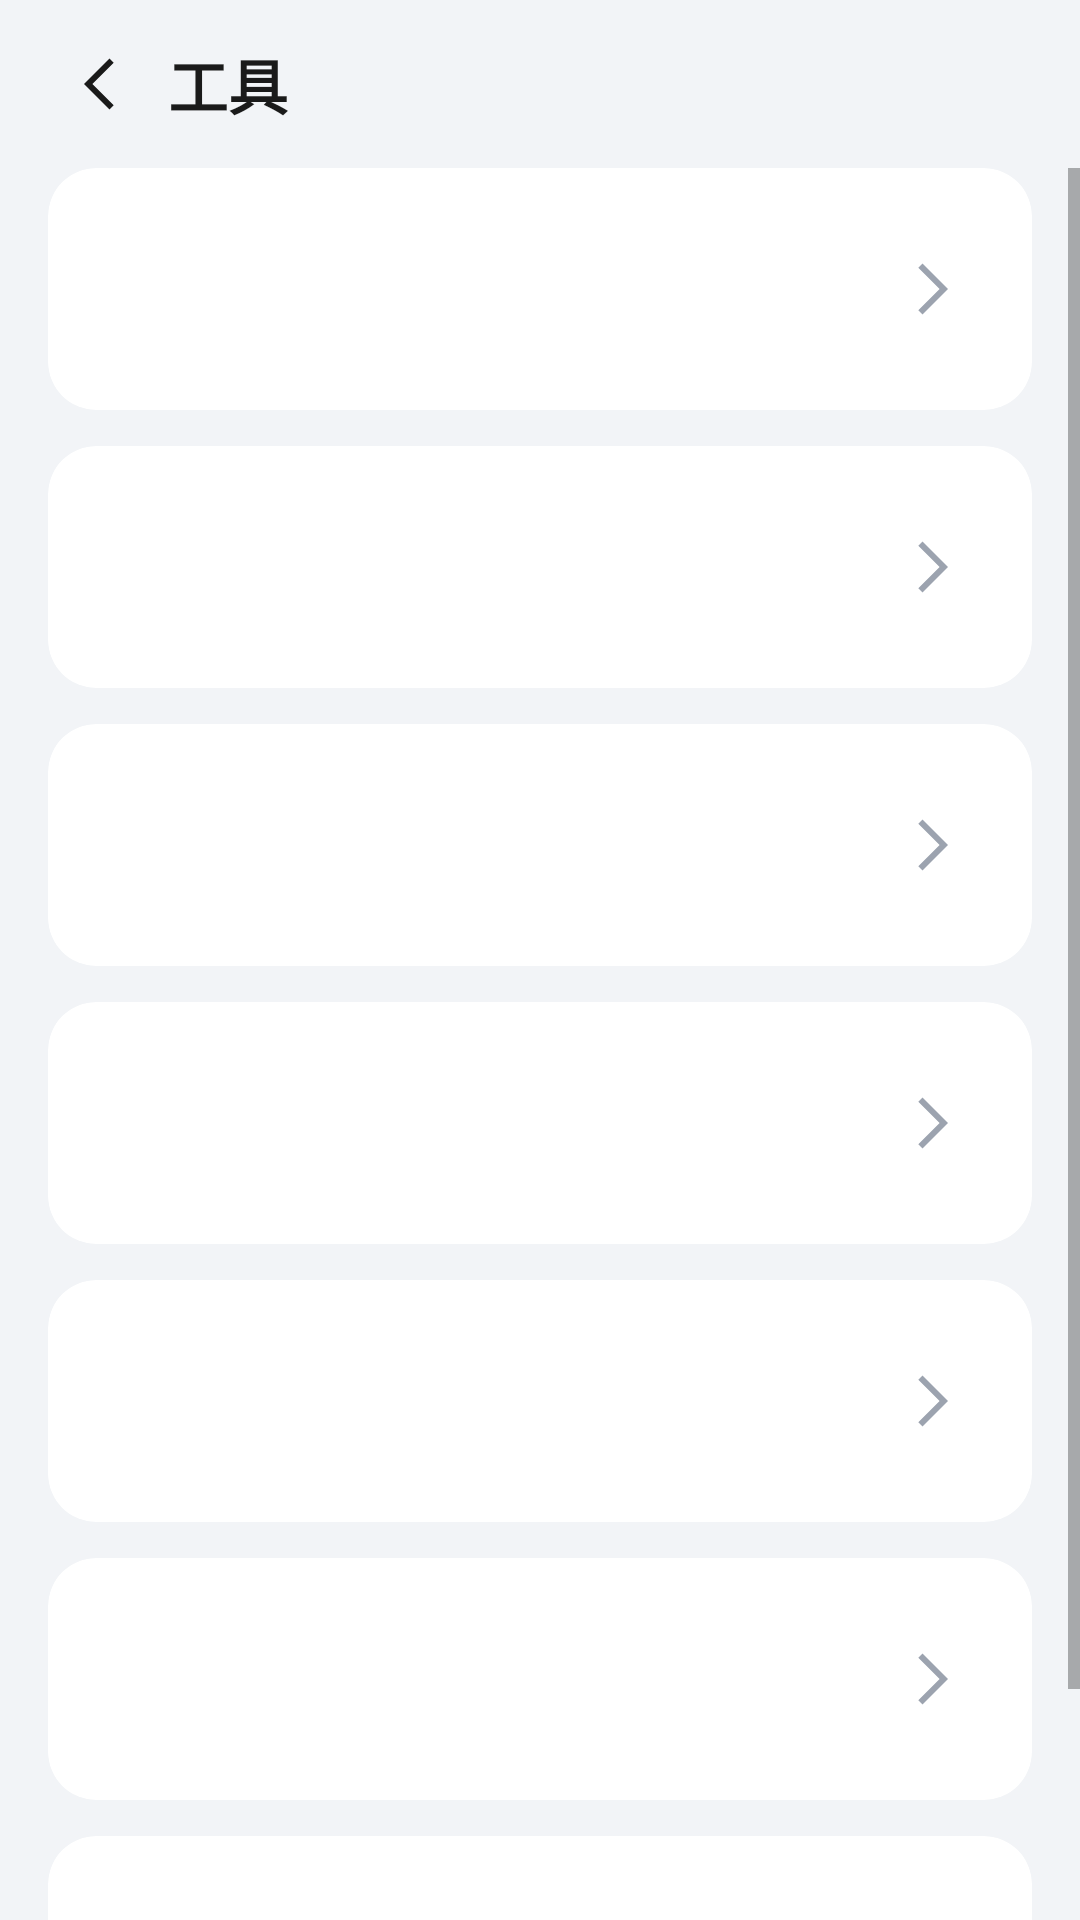

Icons on this 1080 x 1920 Android screen, each with the point to tap as (x=x, y=y):
arrow forward: (x=933, y=289), (x=933, y=567), (x=933, y=845), (x=933, y=1123), (x=933, y=1401), (x=933, y=1679)
返回: (x=99, y=84)
